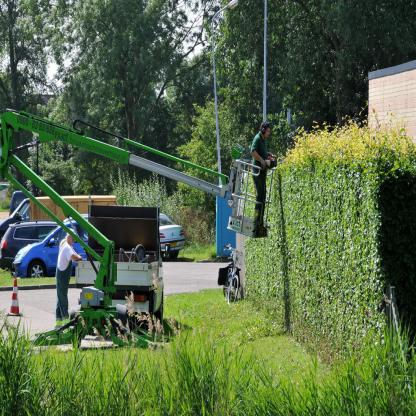car: (10, 213, 90, 281), (0, 219, 62, 273), (158, 211, 188, 263)
person: (251, 118, 277, 212), (58, 229, 78, 323)
